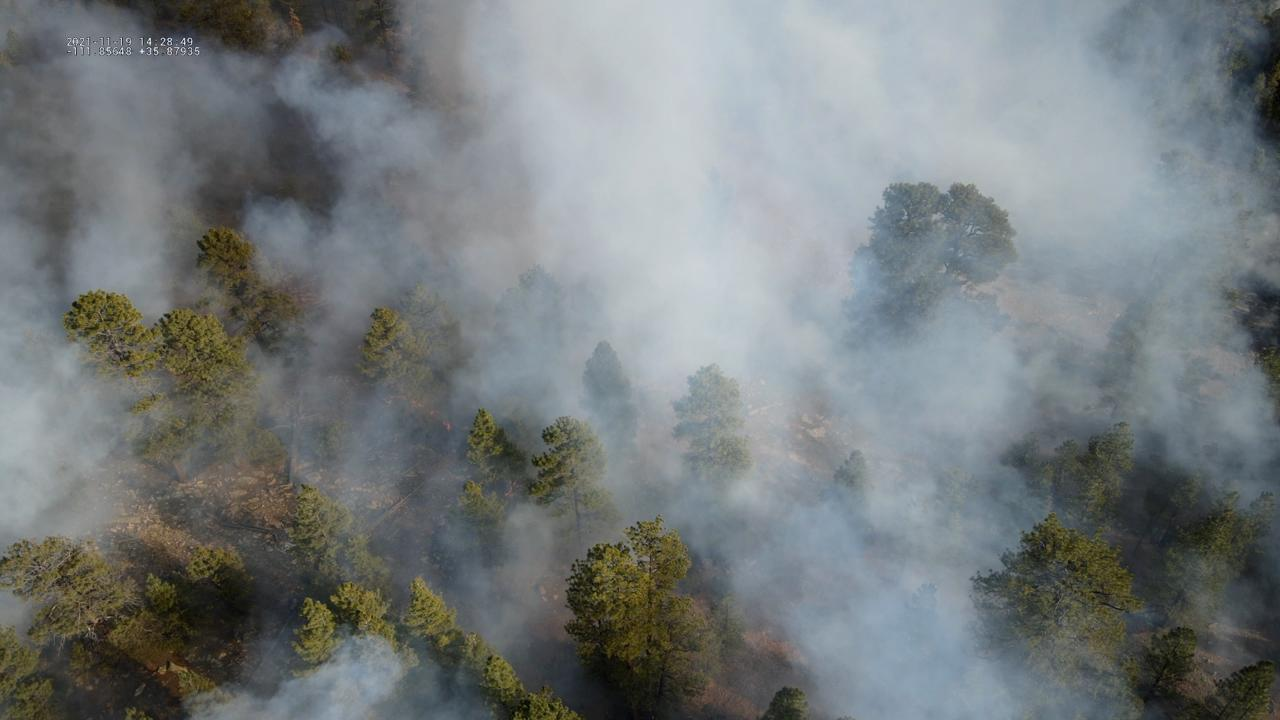fire: (380, 394, 424, 409), (442, 418, 452, 433), (430, 409, 436, 420)
smoke: (0, 0, 1280, 720)
